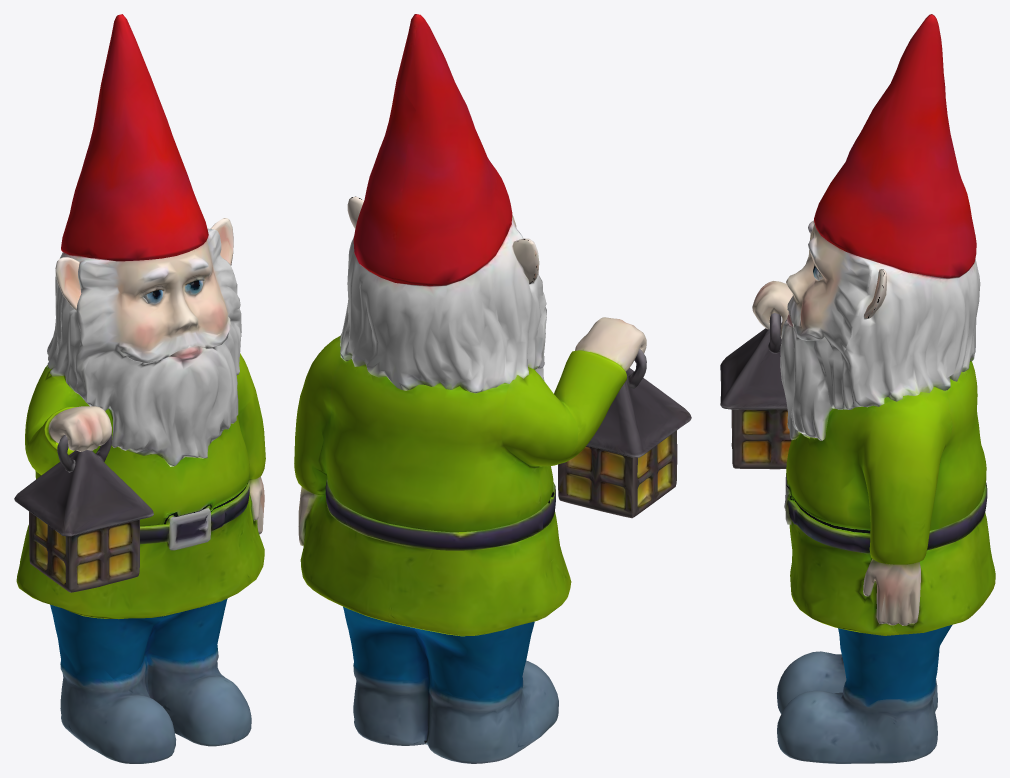
The model's file is garden-gnome.glb.
3 views of the same model, side by side, from view 1: azimuth 30°, elevation 25°; view 2: azimuth 150°, elevation 25°; view 3: azimuth 270°, elevation 25° (orthographic). The views are drawn at different scales.
Parts seen in each view (by area): view 1: garden_gnome; view 2: garden_gnome; view 3: garden_gnome.
Part boxes in pixels (x1=…): garden_gnome: x1=14, y1=14, x2=265, y2=763; garden_gnome: x1=294, y1=14, x2=691, y2=763; garden_gnome: x1=720, y1=14, x2=995, y2=763.
Size of the model in its own units: 0.2578 by 0.5989 by 0.2097.
Materials: 1 (1 with a texture image).
